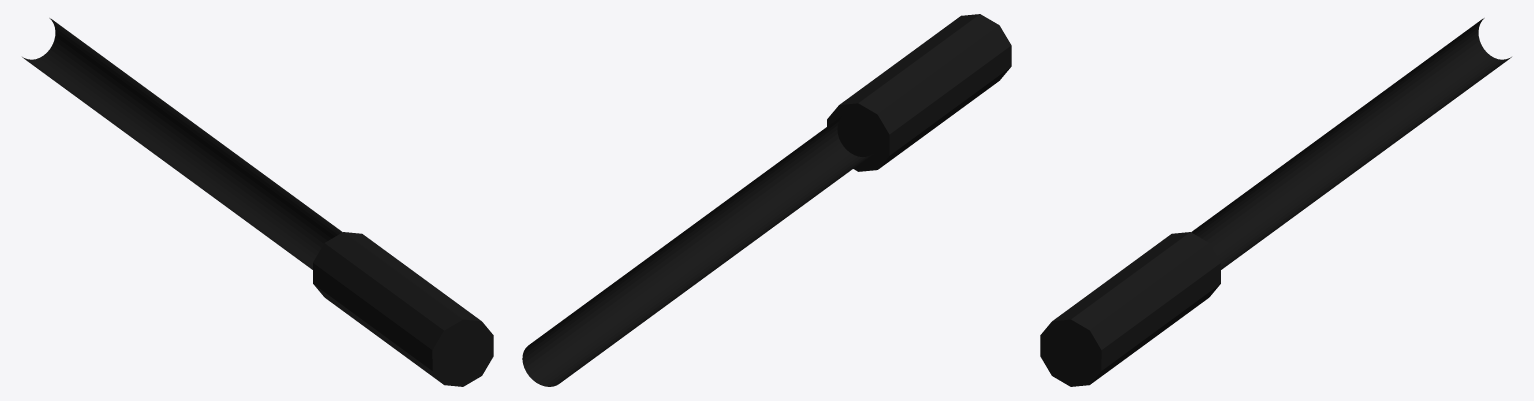
Rendered from teava.obj.
3 renders of one model, left to right at view 1: azimuth 30°, elevation 25°; view 2: azimuth 150°, elevation 25°; view 3: azimuth 330°, elevation 25°, orthographic. The views are drawn at different scales.
Visible parts, largest first — view 1: teava; view 2: teava; view 3: teava.
Part boxes in pixels (box(x1,y1,x2,y2)): teava: box(22, 18, 493, 386); teava: box(522, 14, 1011, 386); teava: box(1040, 18, 1511, 386).
Size of the model in its own units: 0.1989 by 0.2091 by 2.41.
Materials: 1 (1 with a texture image).
